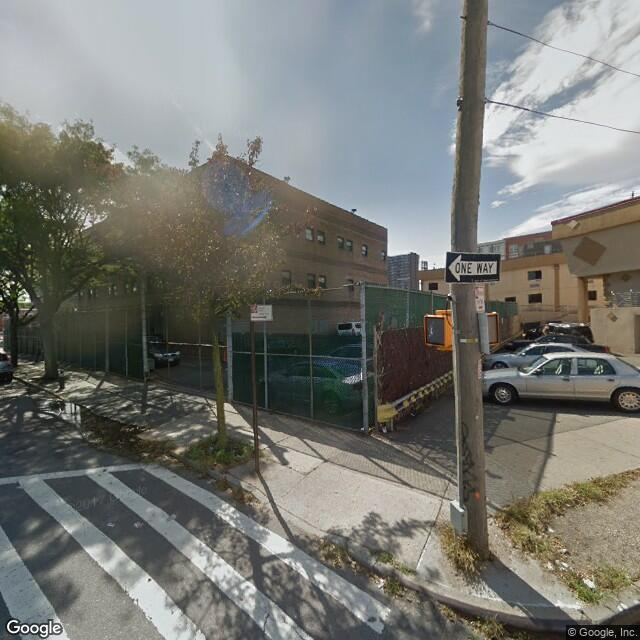litter: (543, 556, 573, 578), (540, 525, 569, 544), (579, 572, 600, 596), (373, 578, 384, 596)
